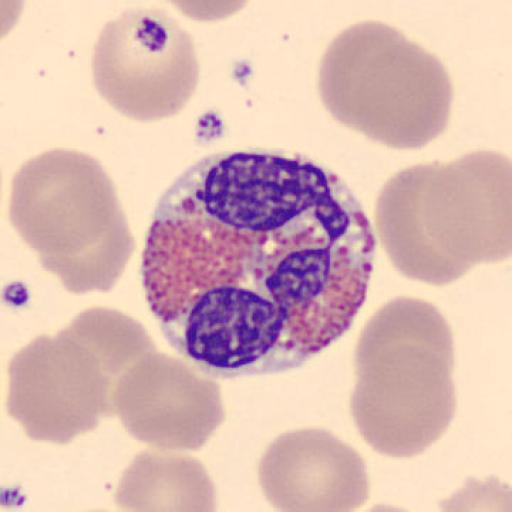RBC: (315, 18, 456, 154), (8, 147, 134, 296), (348, 292, 458, 460), (373, 158, 479, 288), (348, 344, 460, 460), (90, 9, 202, 124), (8, 146, 123, 257), (5, 330, 114, 446), (54, 303, 158, 423), (316, 19, 414, 143), (112, 348, 226, 454), (356, 32, 454, 153), (352, 293, 457, 404), (425, 147, 512, 266), (256, 424, 371, 512), (38, 196, 137, 296), (113, 447, 220, 512), (435, 472, 512, 512), (159, 0, 258, 24), (0, 0, 30, 45), (339, 500, 433, 512)
WBC: (139, 156, 374, 379)
